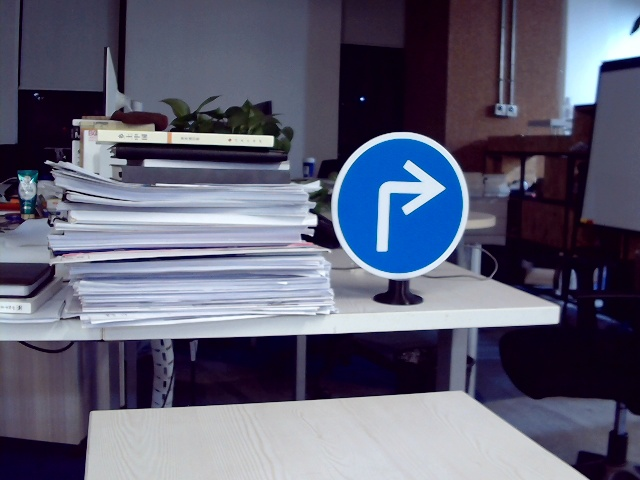turn_right: (366, 159, 442, 256)
